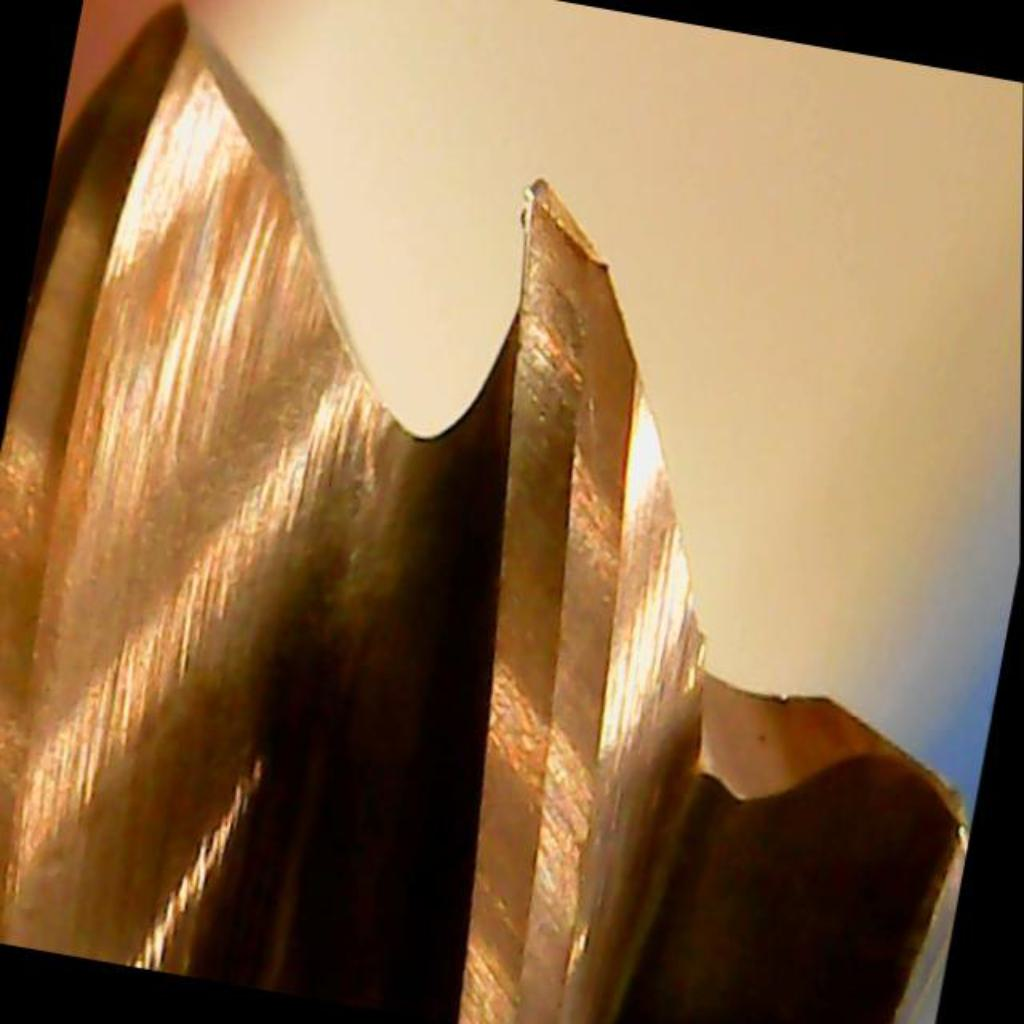Tool-wear-class-1: (434, 154, 676, 508)
